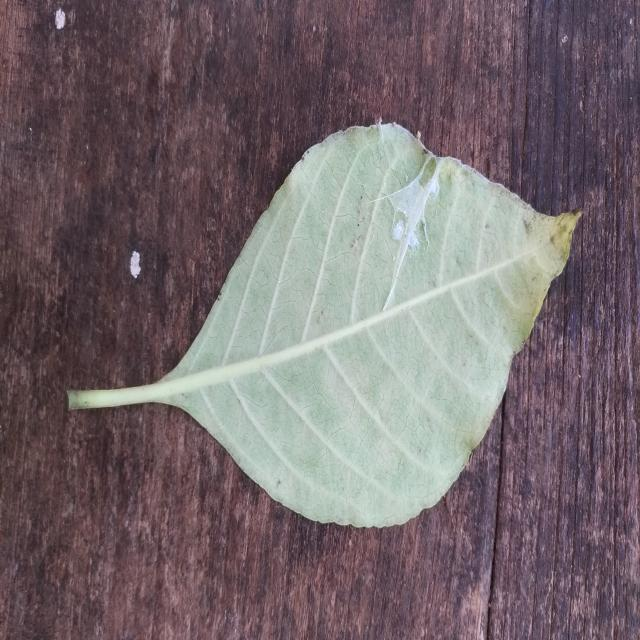malabar_nut: (155, 124, 578, 527)
